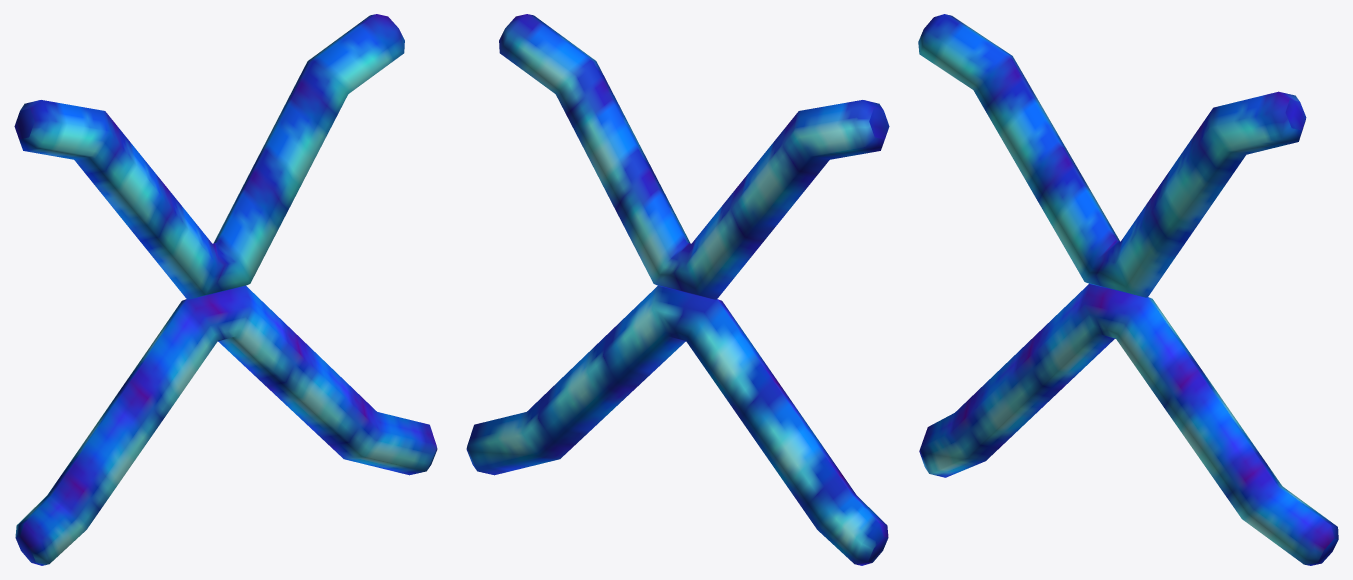
File: furni_0200180.FBX
The picture shows the model from 3 angles, left to right: view 1: azimuth 30°, elevation 25°; view 2: azimuth 150°, elevation 25°; view 3: azimuth 330°, elevation 25°; orthographic projection.
Parts seen in each view (by area): view 1: furni_0200180; view 2: furni_0200180; view 3: furni_0200180.
Part boxes in pixels (left/top/right/bottom): furni_0200180: left=14, top=14, right=437, bottom=565; furni_0200180: left=466, top=14, right=889, bottom=565; furni_0200180: left=918, top=14, right=1338, bottom=565.
Bounding box in the file's own units: 51.64 × 56.04 × 5.2.
